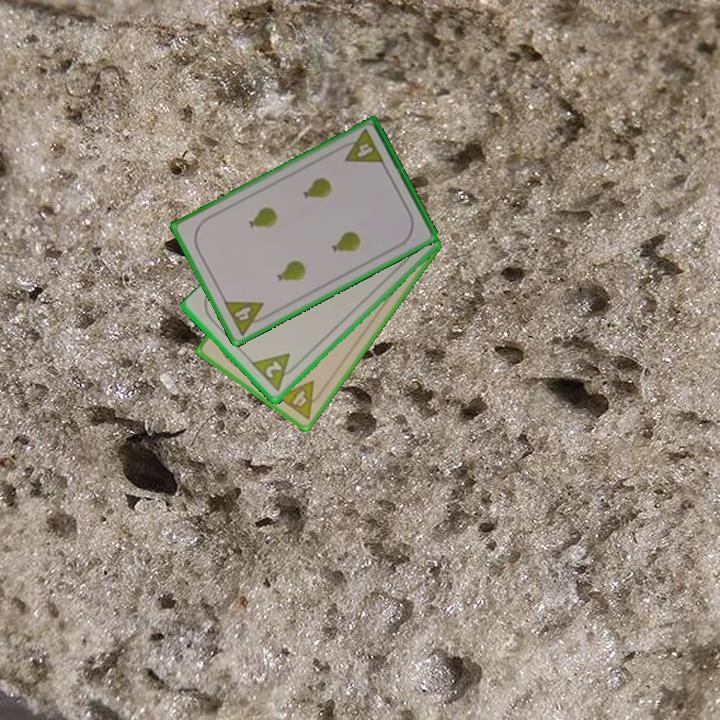2p: (249, 350, 302, 395)
4p: (273, 377, 328, 422), (220, 297, 272, 339), (336, 126, 387, 167)
